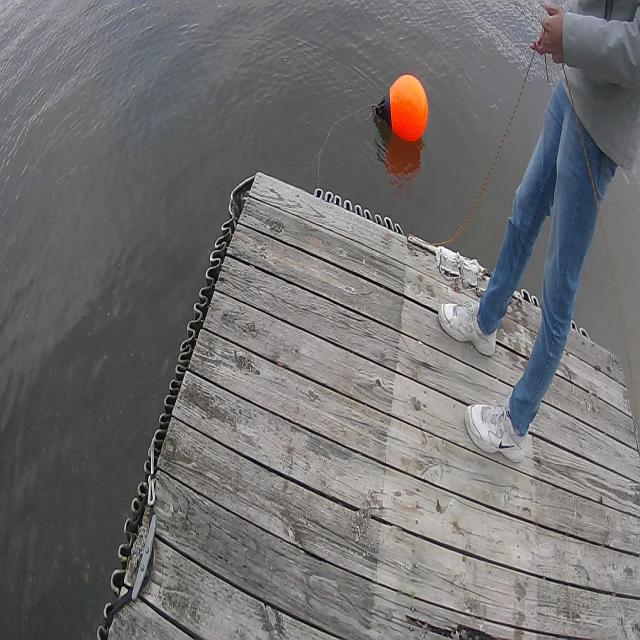Buoy: (388, 71, 429, 145)
